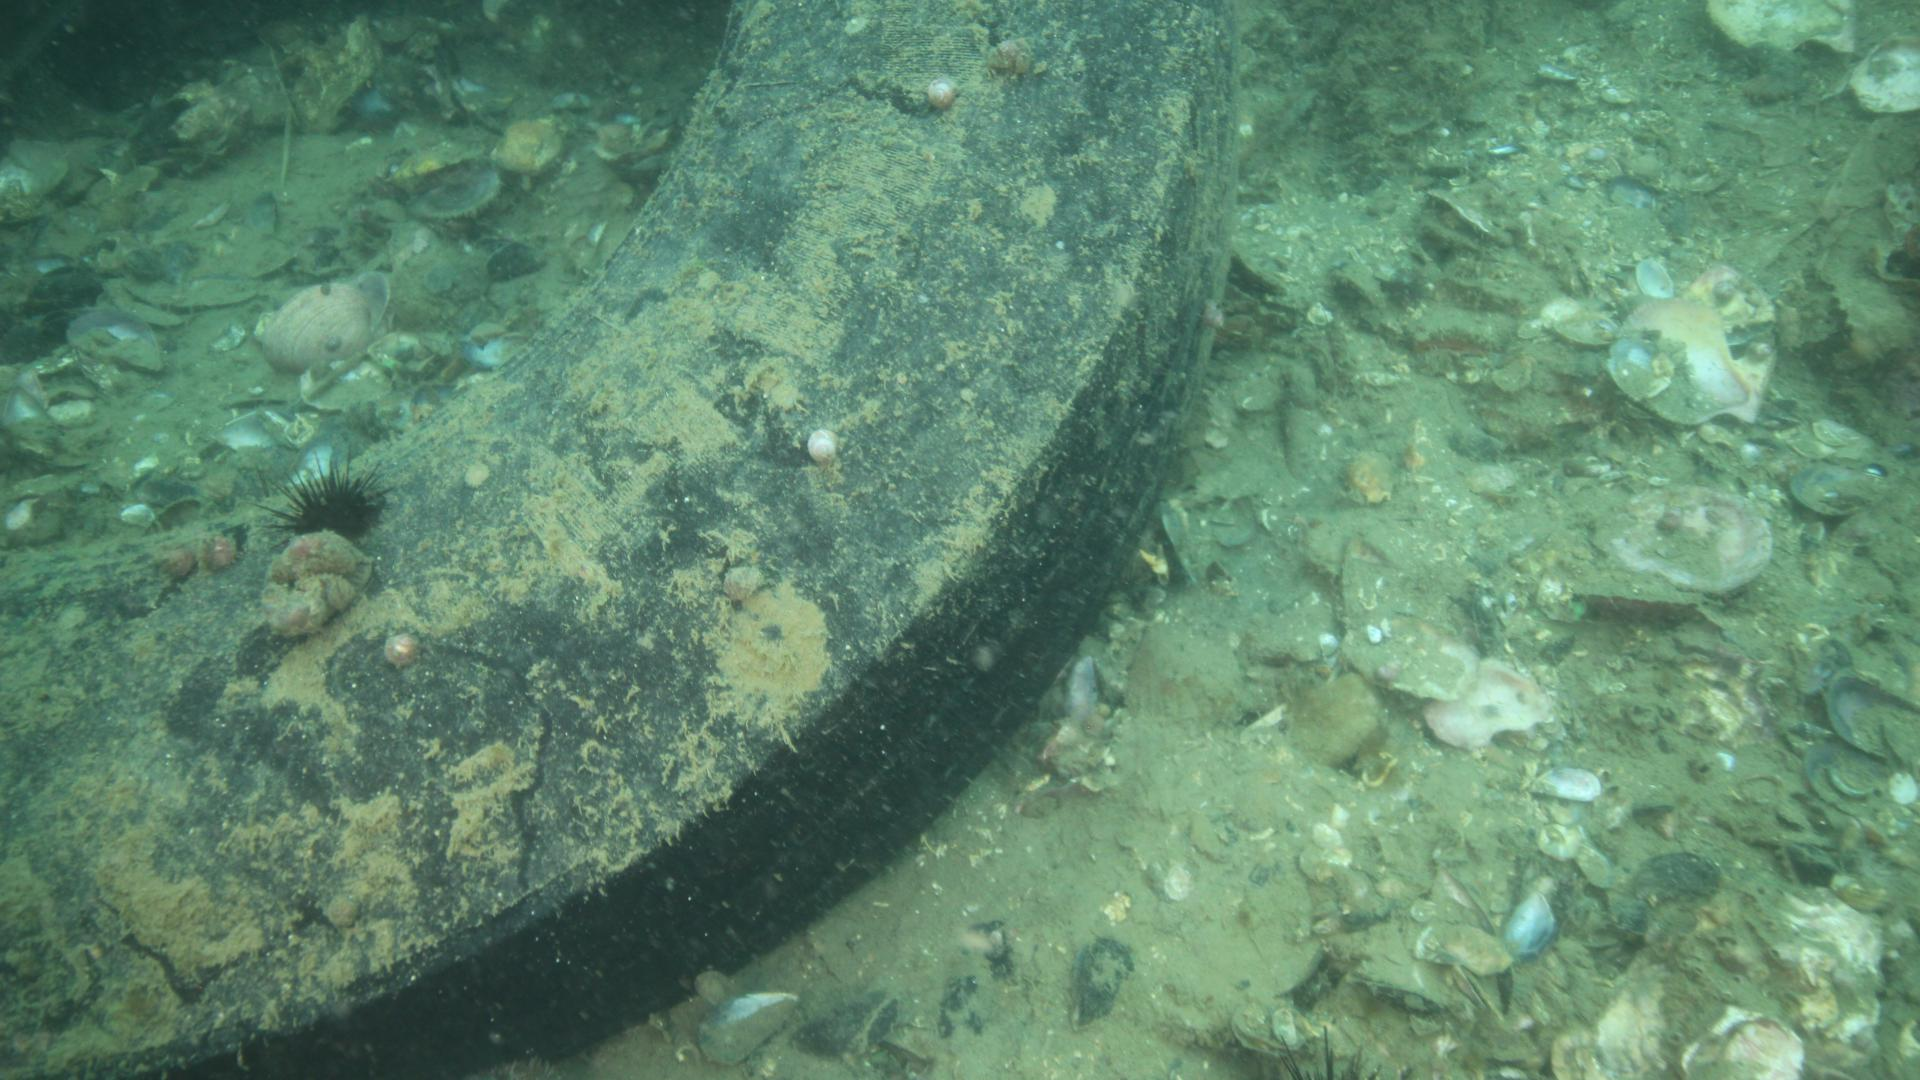tire: (0, 0, 1236, 1080)
